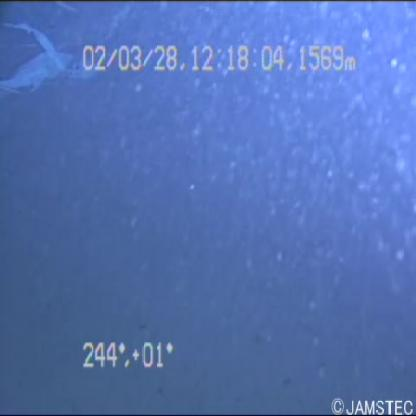Rác: (1, 11, 97, 102)
